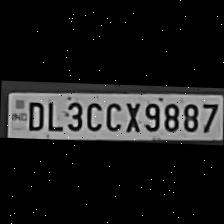3: (62, 96, 84, 130)
7: (198, 99, 218, 132)
8: (160, 98, 180, 132), (179, 98, 199, 131)
9: (140, 98, 160, 131)
C: (83, 98, 103, 132), (104, 97, 122, 131)
D: (24, 97, 44, 130)
L: (44, 97, 61, 131)
X: (121, 97, 141, 132)
